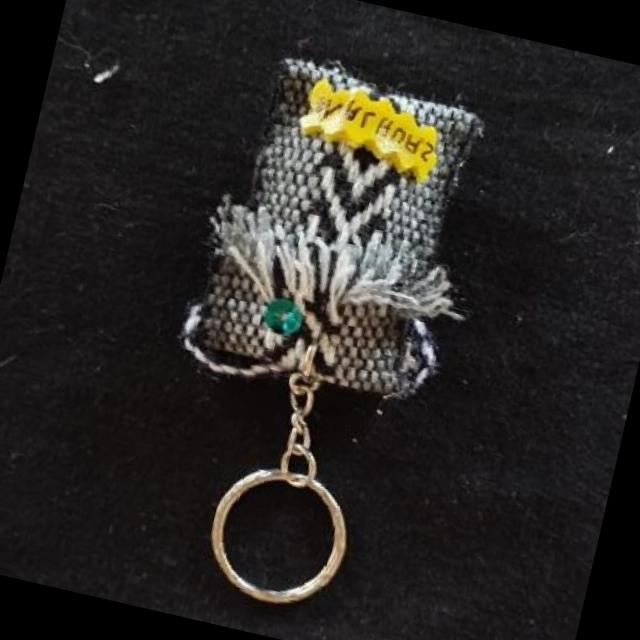Llavero: (170, 44, 514, 427)
